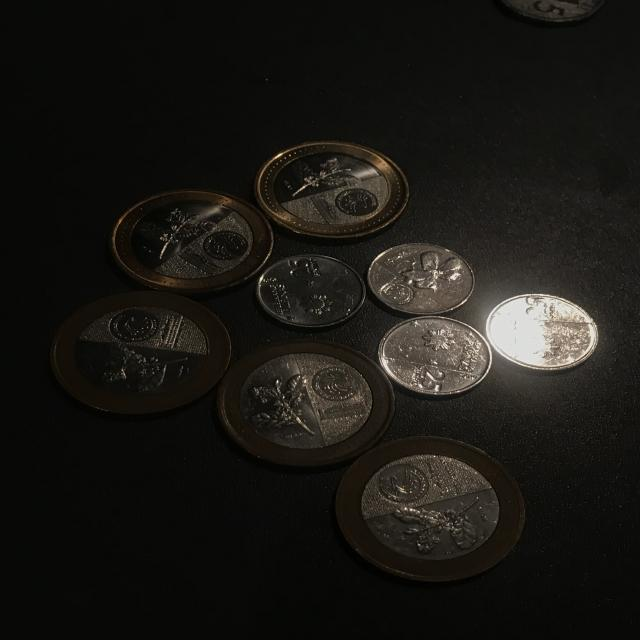20_New_Back: (384, 494, 487, 554), (242, 368, 322, 442), (82, 340, 198, 390), (134, 202, 215, 258), (280, 156, 367, 197)
25Cent_New_Back: (404, 248, 468, 295)
25Cent_New_Front: (281, 254, 326, 288), (401, 364, 446, 396)
